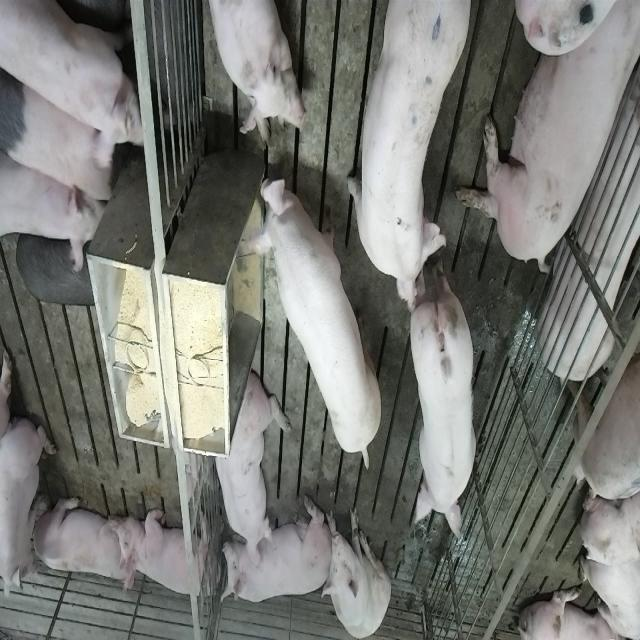Lateral_lying: (454, 5, 635, 277), (538, 58, 640, 380)
Sitting: (321, 502, 391, 637)
Standing: (344, 4, 472, 318), (250, 168, 380, 470), (2, 0, 140, 157), (408, 254, 479, 536), (2, 57, 117, 223), (568, 275, 640, 499), (0, 136, 104, 272)
Sternal_lying: (203, 0, 303, 146), (210, 367, 282, 556), (221, 502, 327, 612), (2, 414, 56, 604), (118, 504, 215, 604), (32, 491, 130, 589)
